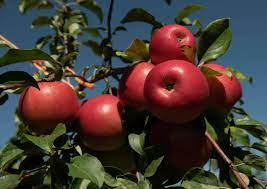apple: (144, 58, 210, 123), (21, 78, 82, 137), (77, 95, 132, 151), (198, 56, 242, 123), (148, 23, 200, 65), (113, 61, 155, 113)
